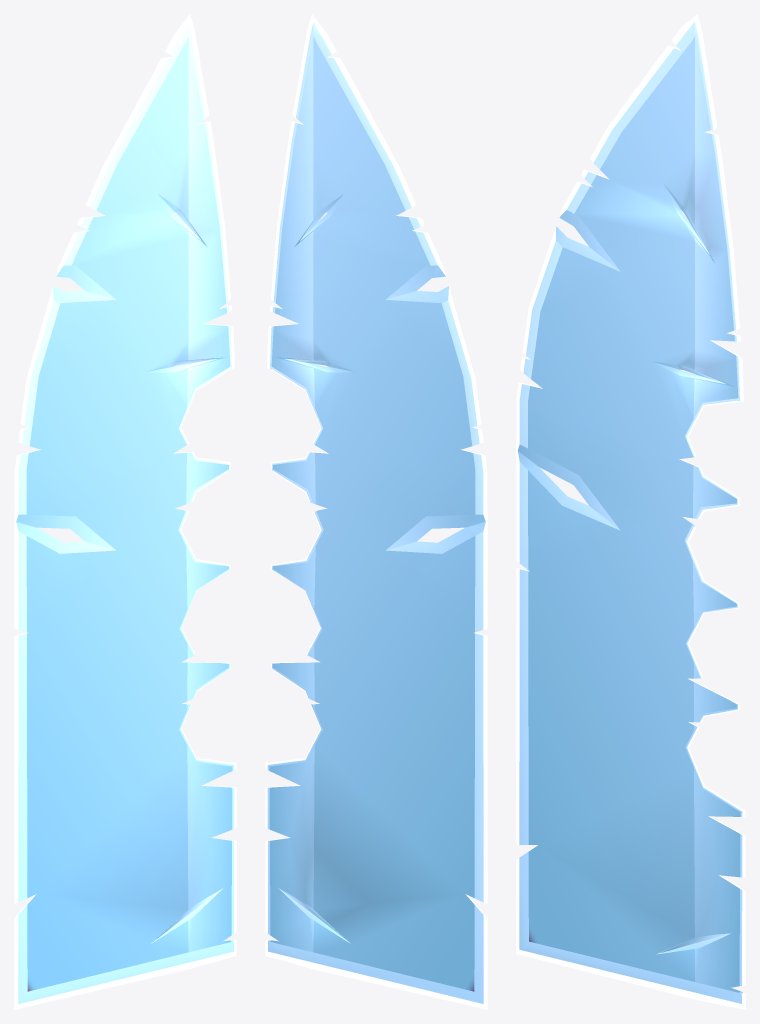
File: steel_blade_scratched_061.glb
3 renders of one model, left to right at view 1: azimuth 30°, elevation 25°; view 2: azimuth 150°, elevation 25°; view 3: azimuth 330°, elevation 25°, orthographic. The views are drawn at different scales.
Visible parts, largest first — view 1: steel_blade_scratched.061; view 2: steel_blade_scratched.061; view 3: steel_blade_scratched.061.
Part boxes in pixels (<box>): steel_blade_scratched.061: <box>14,14,236,1009</box>; steel_blade_scratched.061: <box>265,14,487,1009</box>; steel_blade_scratched.061: <box>516,14,745,1009</box>.
Size of the model in its own units: 2.79 by 11.43 by 0.0204.
1 material, 1 textured.
